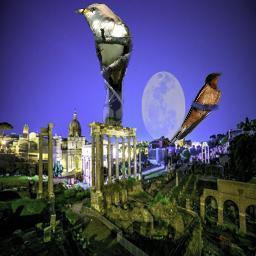Cuckoo: (74, 3, 133, 126)
Swallow: (166, 71, 223, 146)
